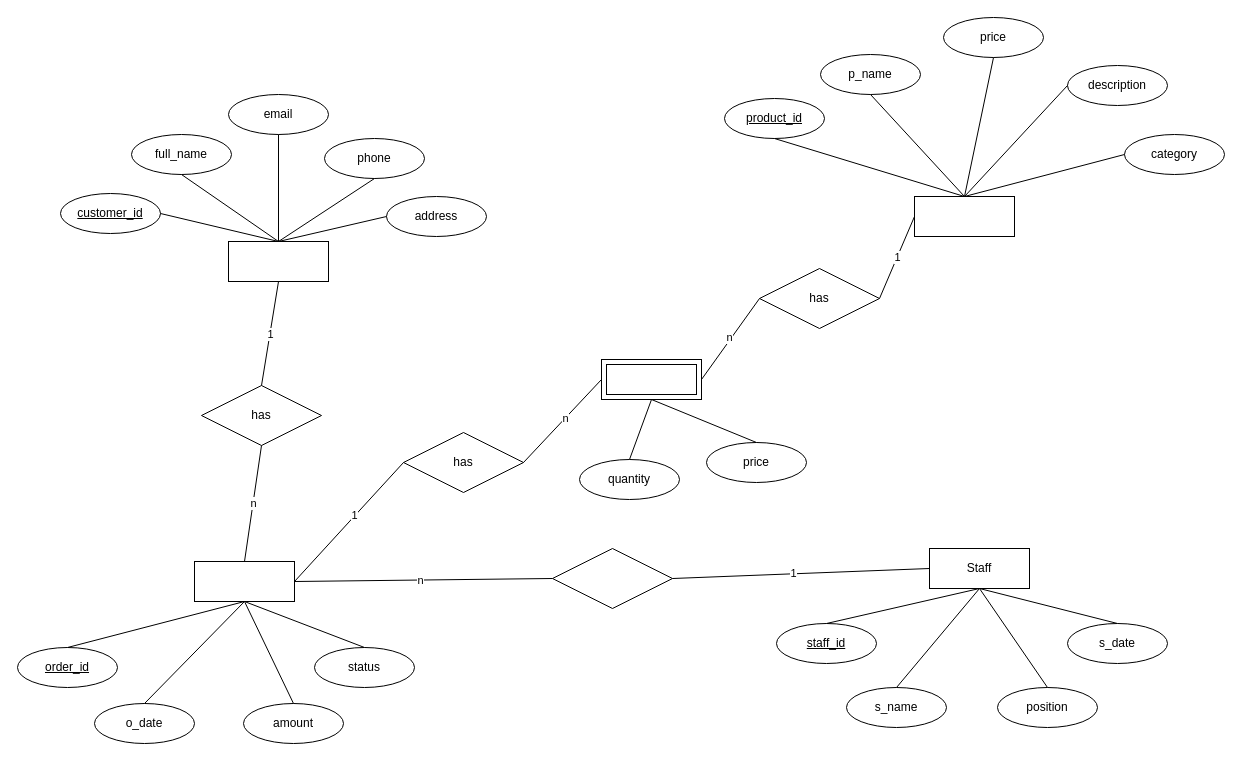
Image size: 1242x761. Some labels were removed from this diagram. The box of each missing label's shape, as (x1, y1, x2, y2) in pixels:
Customer: (228, 240, 328, 282)
Order: (194, 560, 294, 602)
OrderDetail: (600, 358, 702, 400)
processes: (552, 548, 672, 608)
Product: (914, 196, 1014, 236)
